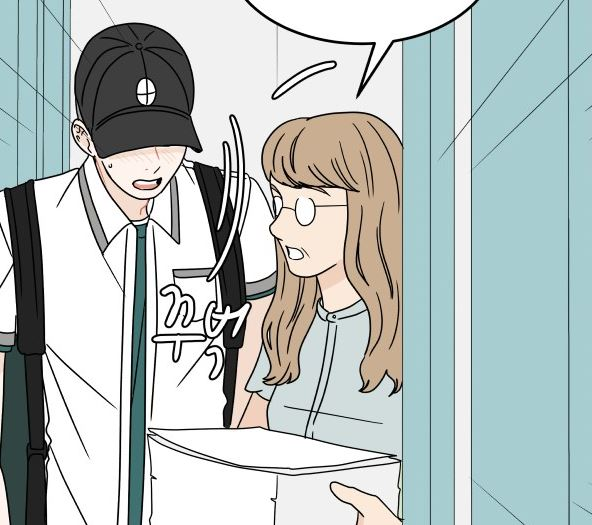hat: (73, 21, 205, 157)
